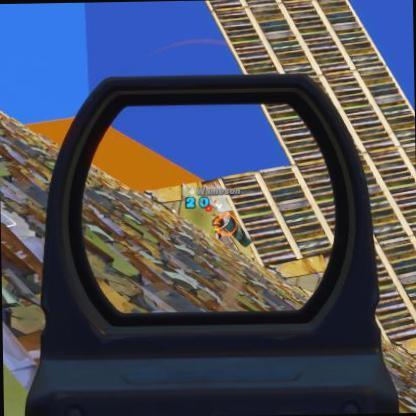person: (214, 207, 238, 242)
